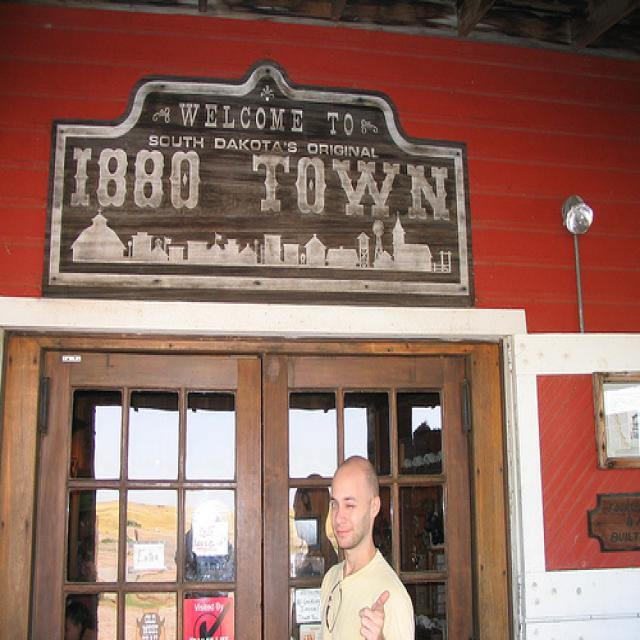person: (318, 457, 417, 639)
